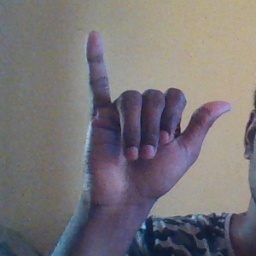J: (76, 31, 232, 201)
